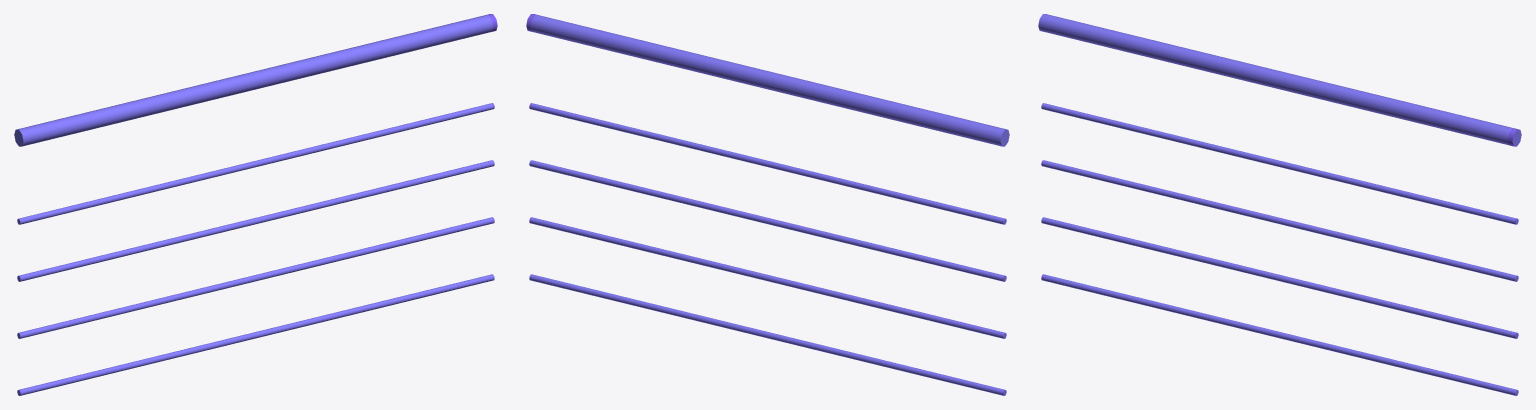
File: rails2-rails.obj
The picture shows the model from 3 angles, left to right: view 1: azimuth 30°, elevation 25°; view 2: azimuth 150°, elevation 25°; view 3: azimuth 330°, elevation 25°; orthographic projection.
Visible parts, largest first — view 1: rails2.003; view 2: rails2.003; view 3: rails2.003.
Boxes of the visible parts, x1,y1,x2,y2 form: rails2.003: (14, 14, 497, 395); rails2.003: (526, 14, 1009, 395); rails2.003: (1038, 14, 1521, 395).
Size of the model in its own units: 2 by 1.07 by 0.068.
